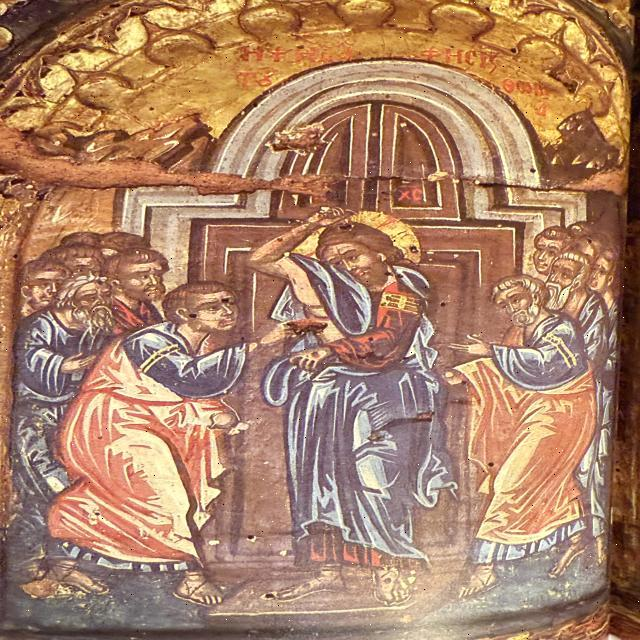aura: (289, 211, 425, 284)
christ: (227, 207, 446, 601)
